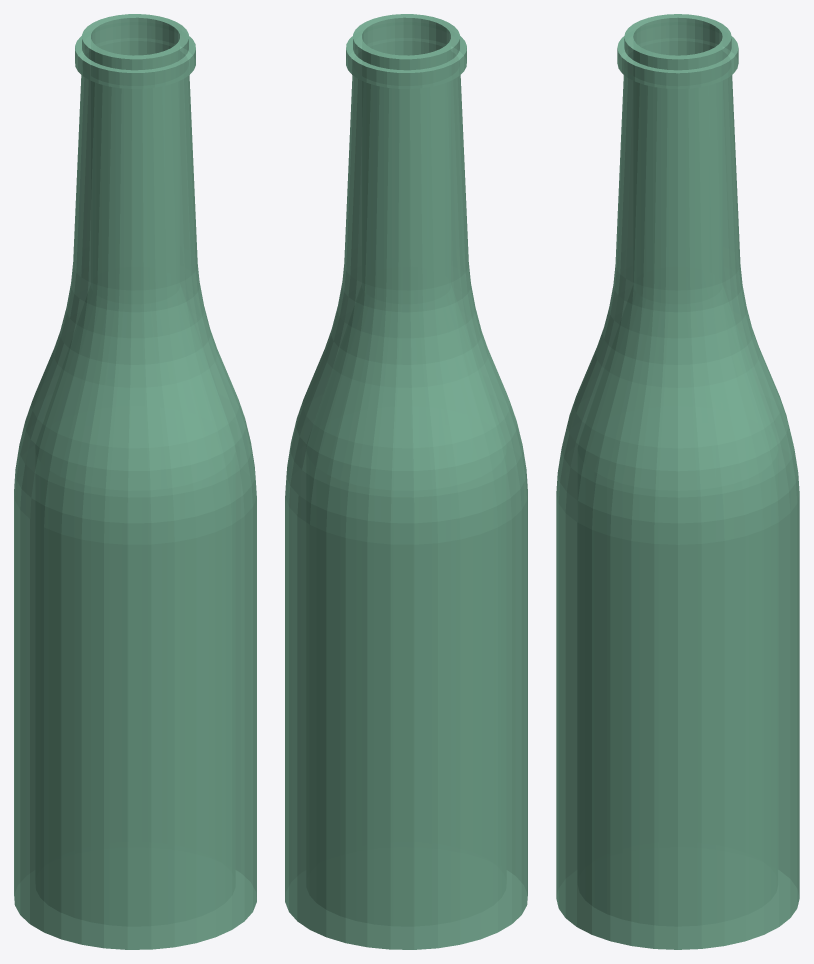
Rendered from GlassBottle.dae.
The picture shows the model from 3 angles, left to right: view 1: azimuth 30°, elevation 25°; view 2: azimuth 150°, elevation 25°; view 3: azimuth 270°, elevation 25°; orthographic projection.
Visible parts, largest first — view 1: Cylinder; view 2: Cylinder; view 3: Cylinder.
Boxes of the visible parts, x1,y1,x2,y2 form: Cylinder: [14, 14, 256, 949]; Cylinder: [285, 14, 527, 949]; Cylinder: [556, 14, 799, 949].
Bounding box in the file's own units: 0.061 × 0.061 × 0.2384.
